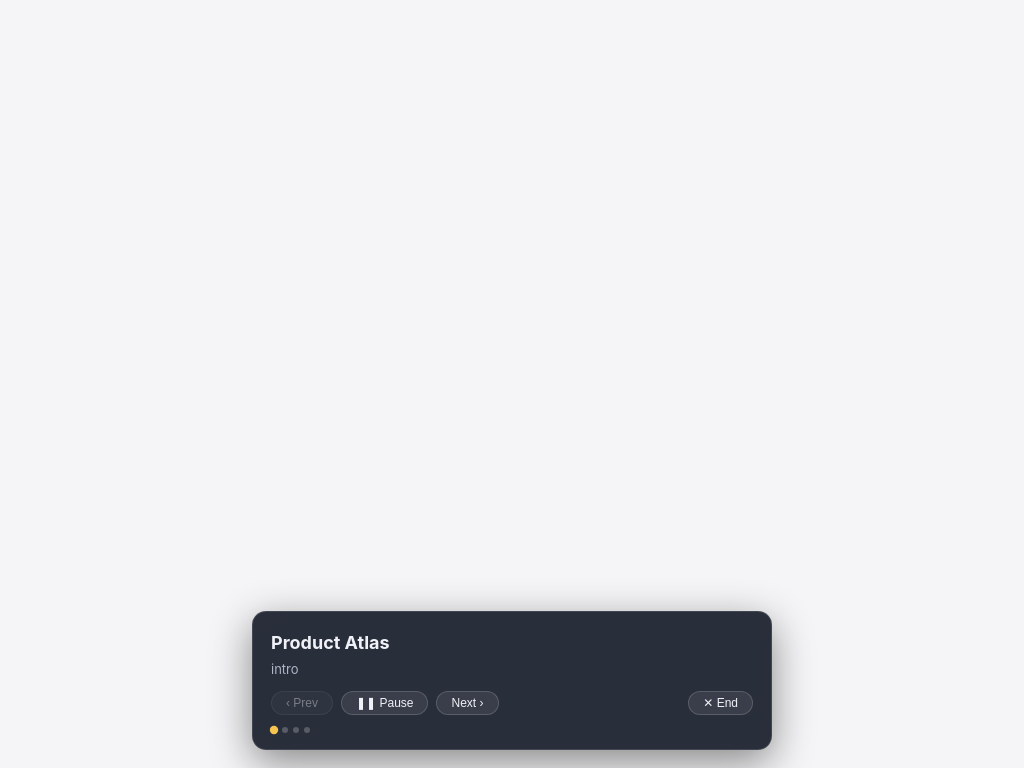
VoyageOverlay › navigates to the first stop on mount and steps with Next/Prev
Expected: the heading "Product Atlas" is shown, 271,632 -> 390,653
Click the button named "Next stop" at (468, 703), box 436,691 -> 498,715
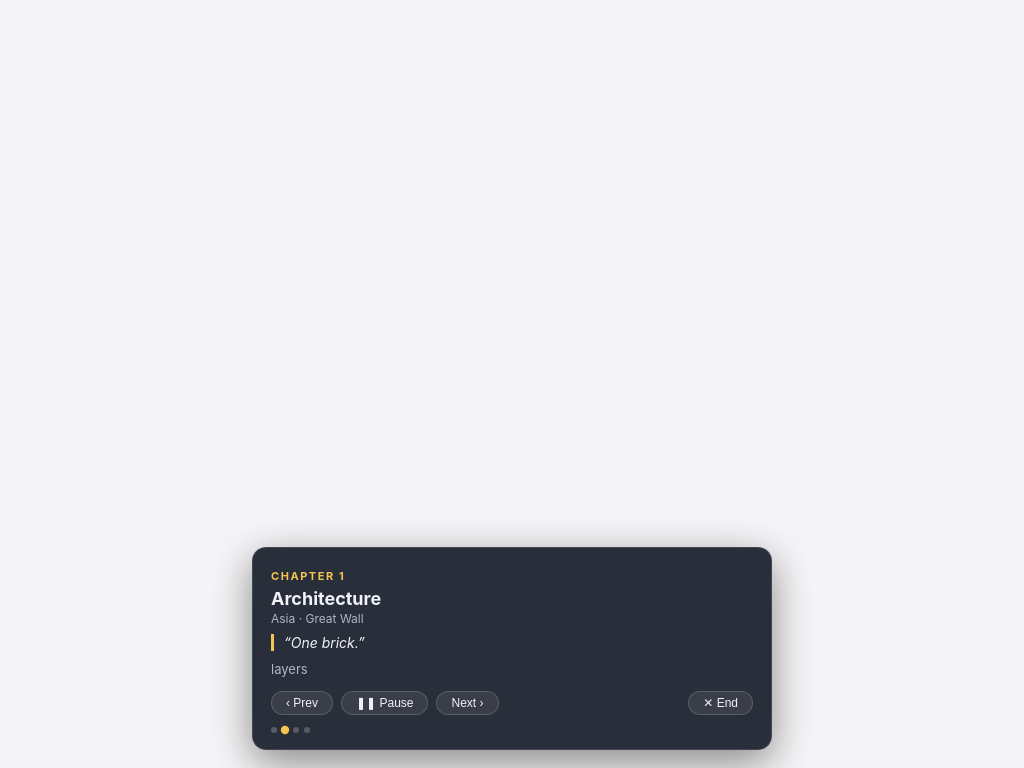
Now the text "Chapter 1" is shown, box 271,569 -> 345,583
Now the text "“One brick.”" is shown, box 271,634 -> 753,651
Click the button named "Previous stop" at (302, 703), box 271,691 -> 333,715
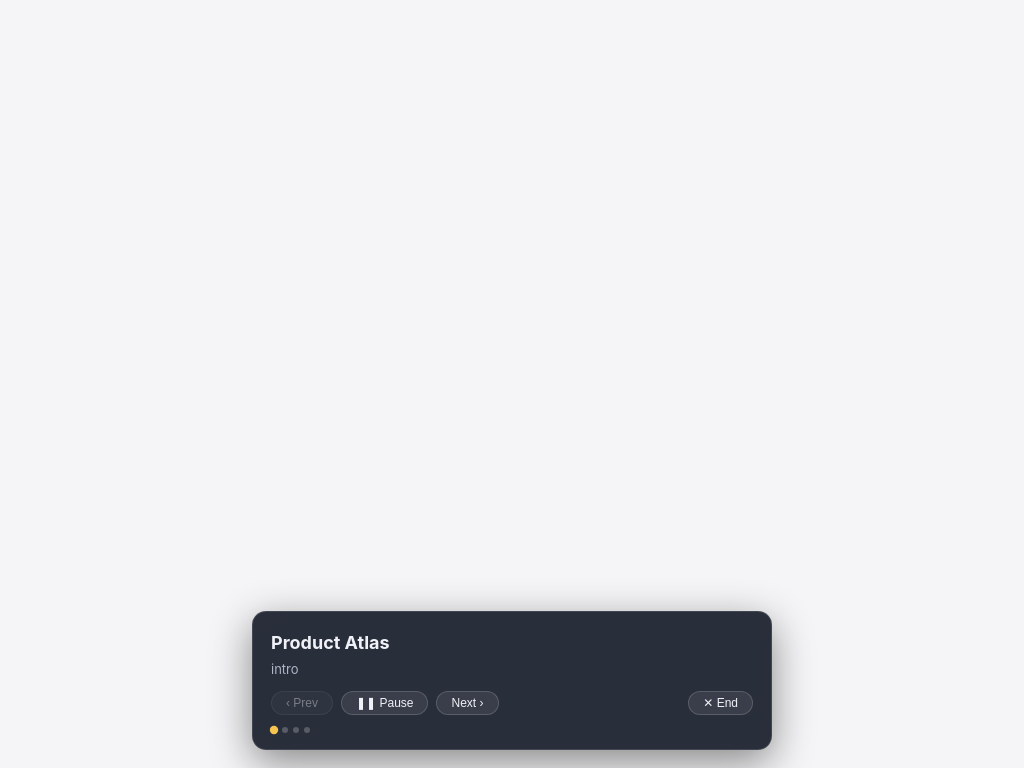
Now the heading "Product Atlas" is shown, box 271,632 -> 390,653
